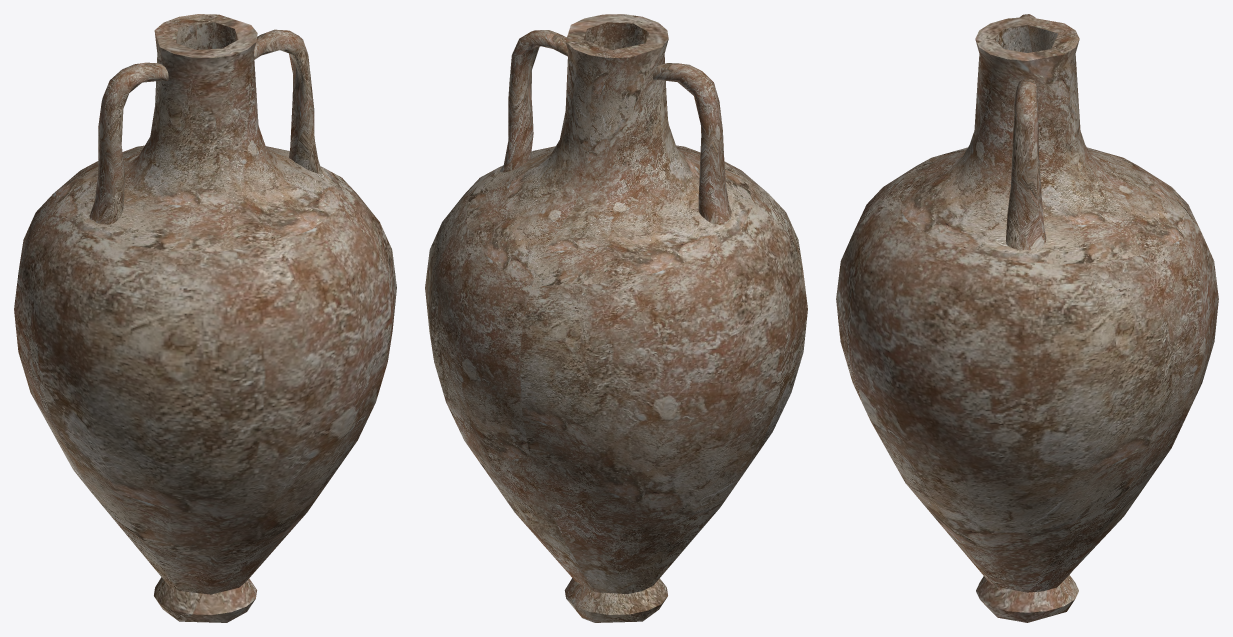
Rendered from amphora.FBX.
3 renders of one model, left to right at view 1: azimuth 30°, elevation 25°; view 2: azimuth 150°, elevation 25°; view 3: azimuth 270°, elevation 25°, orthographic.
Parts seen in each view (by area): view 1: Box02; view 2: Box02; view 3: Box02.
Boxes of the visible parts, box(x1,y1,x2,y2) form: Box02: box(14, 14, 396, 622); Box02: box(425, 14, 807, 622); Box02: box(836, 14, 1218, 622).
Size of the model in its own units: 1.86 by 1.86 by 3.04.
